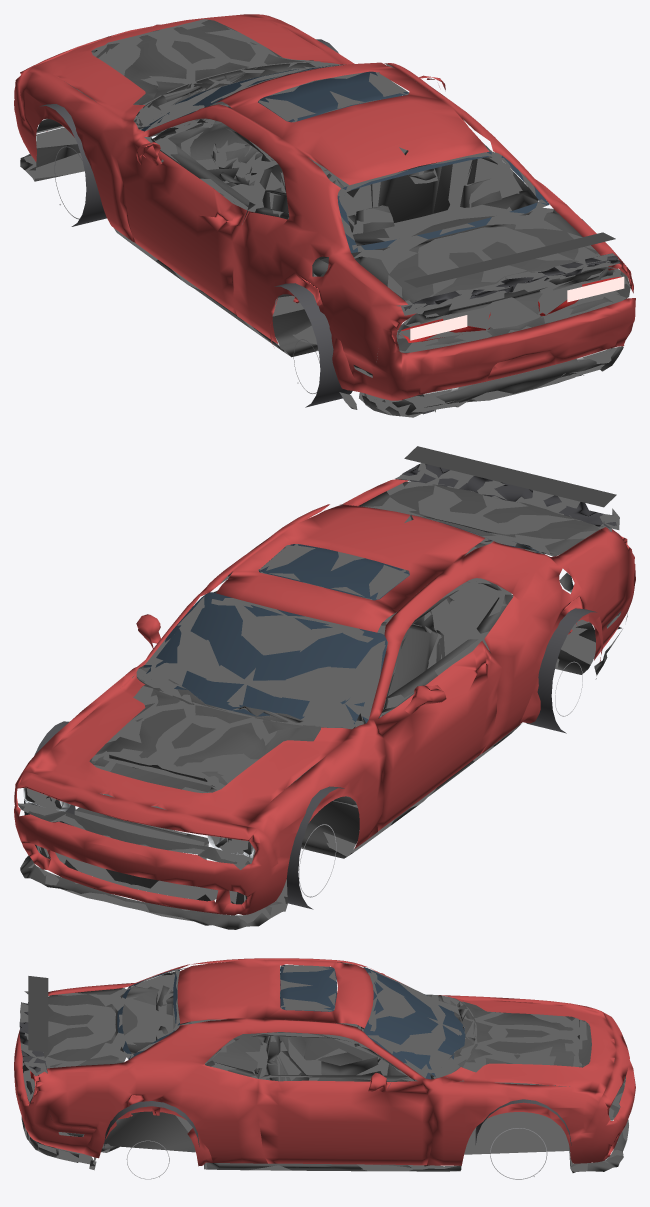
3 views of the same model, one above another, from view 1: azimuth 30°, elevation 25°; view 2: azimuth 150°, elevation 25°; view 3: azimuth 270°, elevation 25° (orthographic). The views are drawn at different scales.
Visible parts, largest first — view 1: BodyShell, TrimShell, wheel_rl, ActiveRearAero, wheel_fl, BrakeLights6; view 2: BodyShell, TrimShell, ActiveRearAero, wheel_rl, wheel_fl; view 3: BodyShell, TrimShell, ActiveRearAero, wheel_rr, wheel_fr.
Part boxes in pixels (x1=…): BodyShell: x1=14, y1=14, x2=635, y2=417; TrimShell: x1=20, y1=20, x2=630, y2=416; wheel_rl: x1=274, y1=283, x2=352, y2=407; ActiveRearAero: x1=404, y1=232, x2=615, y2=287; wheel_fl: x1=40, y1=104, x2=106, y2=226; BrakeLights6: x1=410, y1=276, x2=624, y2=340; BodyShell: x1=14, y1=463, x2=635, y2=923; TrimShell: x1=18, y1=464, x2=627, y2=929; ActiveRearAero: x1=404, y1=446, x2=616, y2=507; wheel_rl: x1=526, y1=608, x2=596, y2=733; wheel_fl: x1=286, y1=786, x2=344, y2=909; BodyShell: x1=14, y1=958, x2=635, y2=1172; TrimShell: x1=19, y1=962, x2=625, y2=1172; ActiveRearAero: x1=28, y1=976, x2=48, y2=1052; wheel_rr: x1=104, y1=1101, x2=199, y2=1179; wheel_fr: x1=475, y1=1099, x2=571, y2=1179.
Bounding box in the file's own units: 2.15 × 1.35 × 4.95.
